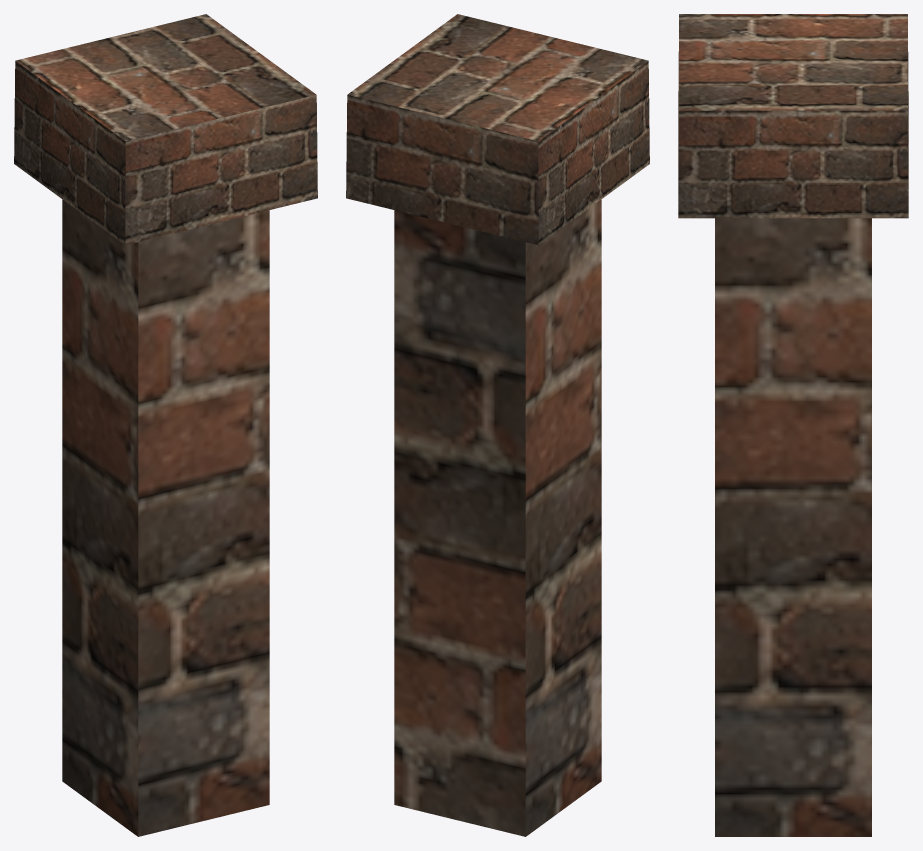
The model's file is chimney_brick_1.fbx.
3 renders of one model, left to right at view 1: azimuth 30°, elevation 25°; view 2: azimuth 150°, elevation 25°; view 3: azimuth 270°, elevation 25°, orthographic. The views are drawn at different scales.
Visible parts, largest first — view 1: chimney_brick_1; view 2: chimney_brick_1; view 3: chimney_brick_1.
Boxes of the visible parts, bbox=[...] form: chimney_brick_1: bbox=[14, 14, 317, 836]; chimney_brick_1: bbox=[346, 14, 649, 836]; chimney_brick_1: bbox=[678, 14, 908, 836].
Bounding box in the file's own units: 1.03 × 3.64 × 1.03.
